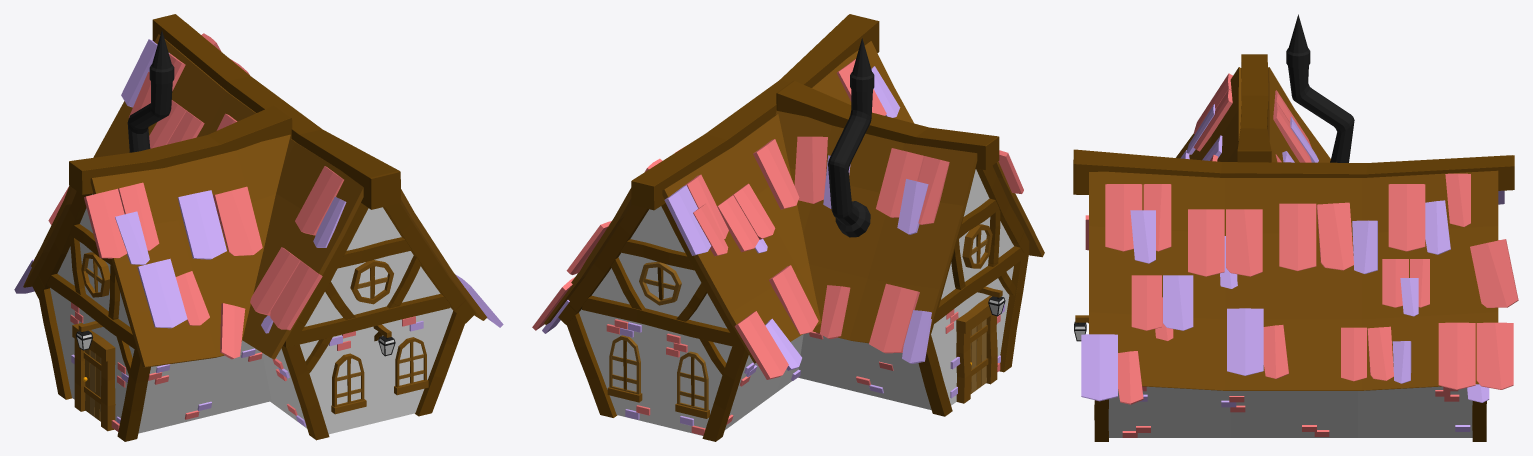
Rendered from HouseTeste.fbx.
3 views of the same model, side by side, from view 1: azimuth 30°, elevation 25°; view 2: azimuth 150°, elevation 25°; view 3: azimuth 270°, elevation 25° (orthographic).
Parts seen in each view (by area): view 1: House03; view 2: House03; view 3: House03.
Boxes of the visible parts, box(x1,y1,x2,y2) form: House03: box(14, 14, 503, 441); House03: box(532, 14, 1044, 441); House03: box(1073, 14, 1518, 441).
Size of the model in its own units: 10.28 by 9.86 by 11.48.
